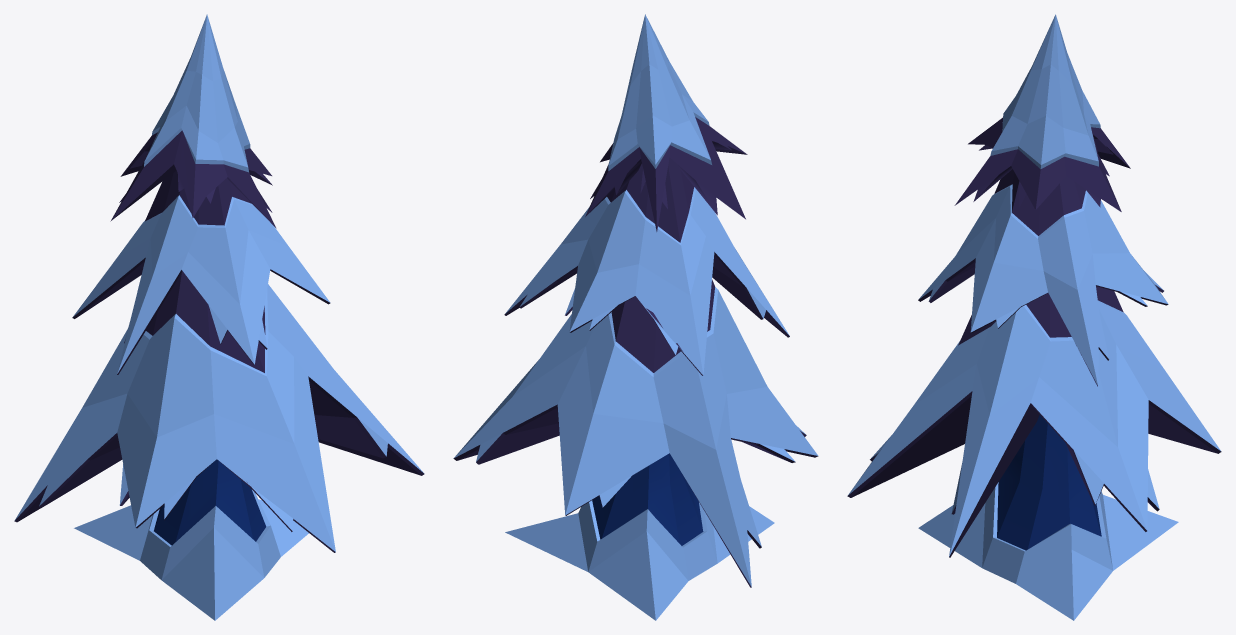
Rendered from Tree_3.fbx.
The picture shows the model from 3 angles, left to right: view 1: azimuth 30°, elevation 25°; view 2: azimuth 150°, elevation 25°; view 3: azimuth 270°, elevation 25°; orthographic projection.
Visible parts, largest first — view 1: Tree_3; view 2: Tree_3; view 3: Tree_3.
Part boxes in pixels (left/top/right/bottom): Tree_3: left=14, top=14, right=424, bottom=620; Tree_3: left=453, top=14, right=818, bottom=620; Tree_3: left=847, top=14, right=1221, bottom=620.
Size of the model in its own units: 49.79 by 82.19 by 51.24.
